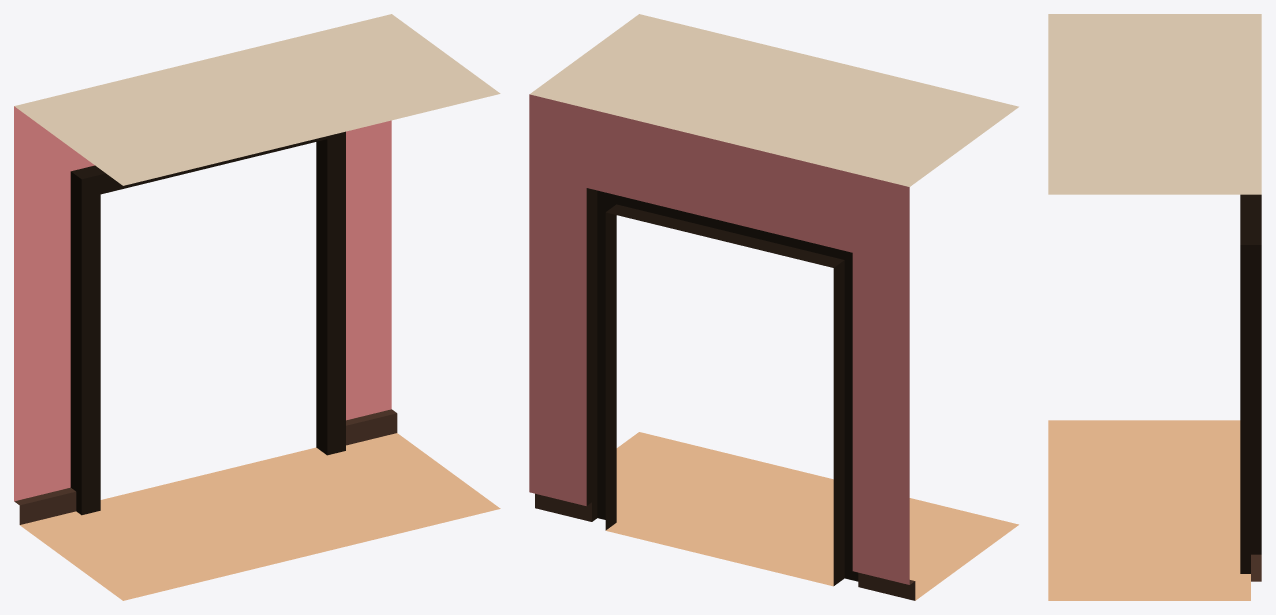
File: Cadre_porte_1x2.fbx
3 renders of one model, left to right at view 1: azimuth 30°, elevation 25°; view 2: azimuth 150°, elevation 25°; view 3: azimuth 270°, elevation 25°, orthographic. The views are drawn at different scales.
Parts seen in each view (by area): view 1: Cadre_porte_1x2; view 2: Cadre_porte_1x2; view 3: Cadre_porte_1x2.
Part boxes in pixels (left/top/right/bottom): Cadre_porte_1x2: left=14, top=14, right=500, bottom=600; Cadre_porte_1x2: left=529, top=14, right=1018, bottom=600; Cadre_porte_1x2: left=1048, top=14, right=1261, bottom=600.
Size of the model in its own units: 2 by 2.1 by 1.
